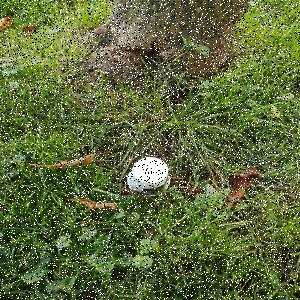Cup: (125, 157, 178, 199)
